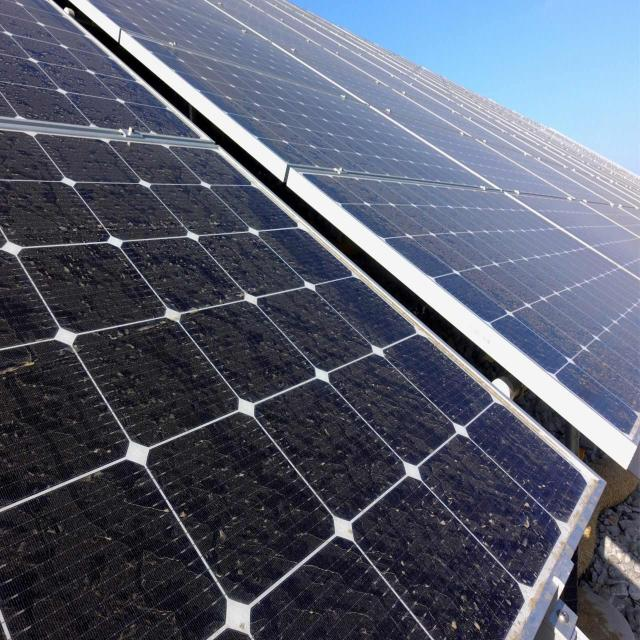dust-solar-panel: (0, 0, 588, 640), (80, 2, 640, 440)
